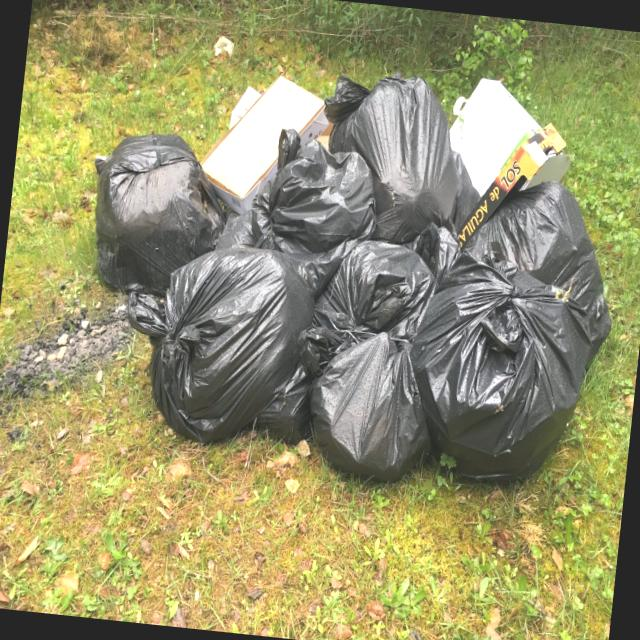garbage: (33, 23, 640, 503)
